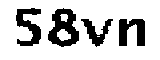5: (6, 5, 46, 54)
8: (46, 4, 82, 53)
n: (119, 16, 154, 53)
v: (82, 15, 113, 50)
